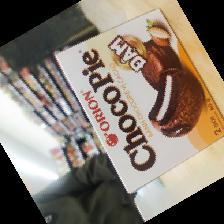Chocopie_cacao: (53, 8, 224, 195)
